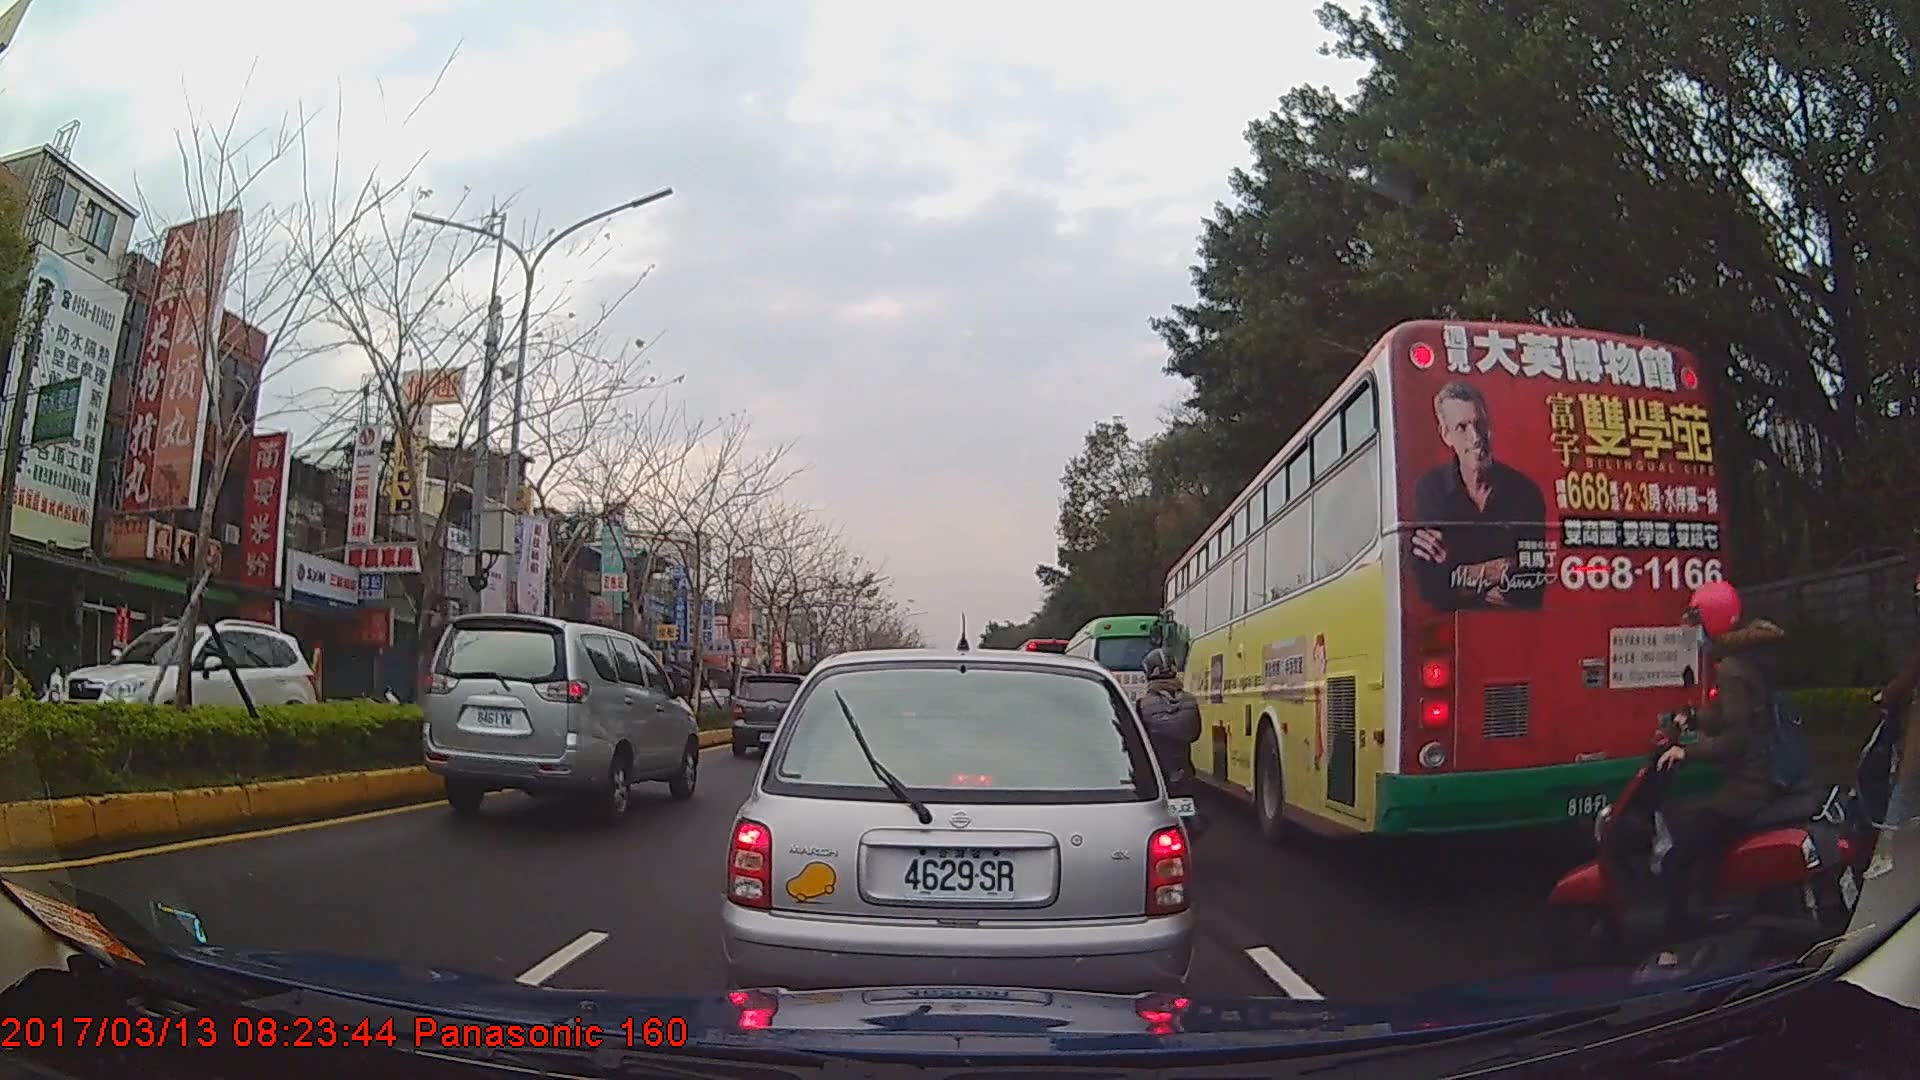rider: (1549, 577, 1859, 982), (1834, 571, 1920, 893), (1125, 647, 1203, 855), (20, 646, 52, 706)
vehicle: (1160, 316, 1732, 840), (723, 645, 1191, 1026), (419, 612, 698, 821), (56, 616, 315, 752), (1062, 613, 1187, 769), (730, 672, 814, 757)
